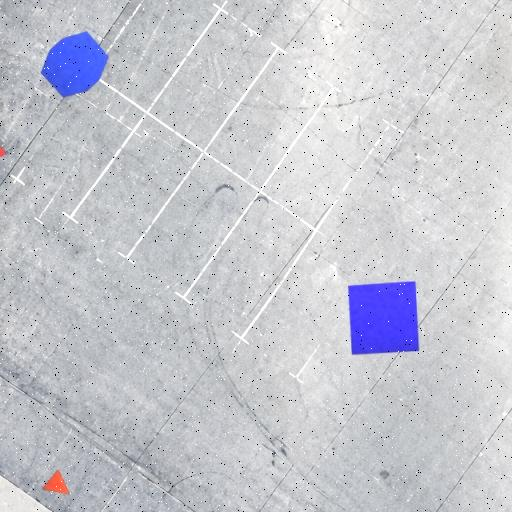BLUE_SQUARE: (348, 280, 420, 355)
